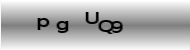9: (111, 20, 123, 33)
Q: (97, 19, 113, 35)
U: (84, 11, 99, 24)
g: (55, 19, 68, 34)
p: (36, 17, 50, 30)
